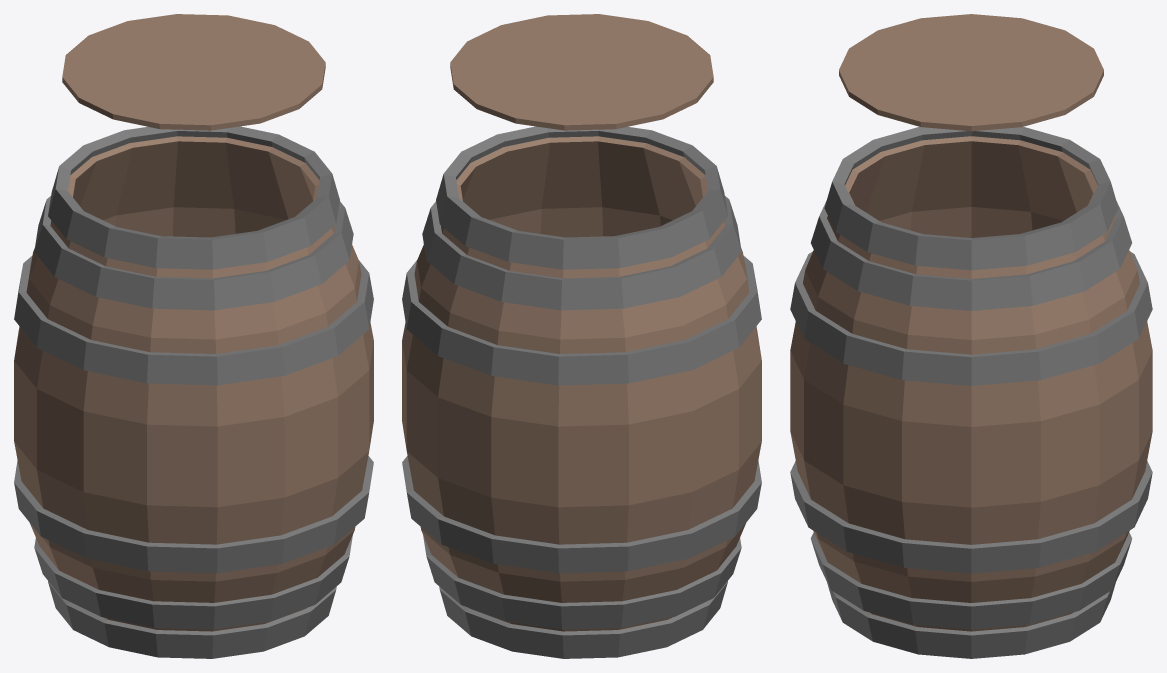
File: barrel1_open.fbx
3 views of the same model, side by side, from view 1: azimuth 30°, elevation 25°; view 2: azimuth 150°, elevation 25°; view 3: azimuth 270°, elevation 25° (orthographic).
Parts seen in each view (by area): view 1: Cylinder, Cylinder.001; view 2: Cylinder, Cylinder.001; view 3: Cylinder, Cylinder.001.
Boxes of the visible parts, box(x1,y1,x2,y2) form: Cylinder: box(14, 126, 373, 658); Cylinder.001: box(62, 14, 325, 130); Cylinder: box(402, 126, 761, 658); Cylinder.001: box(450, 14, 713, 130); Cylinder: box(790, 127, 1152, 658); Cylinder.001: box(839, 14, 1103, 131).
Size of the model in its own units: 48.91 by 78.93 by 48.91.
